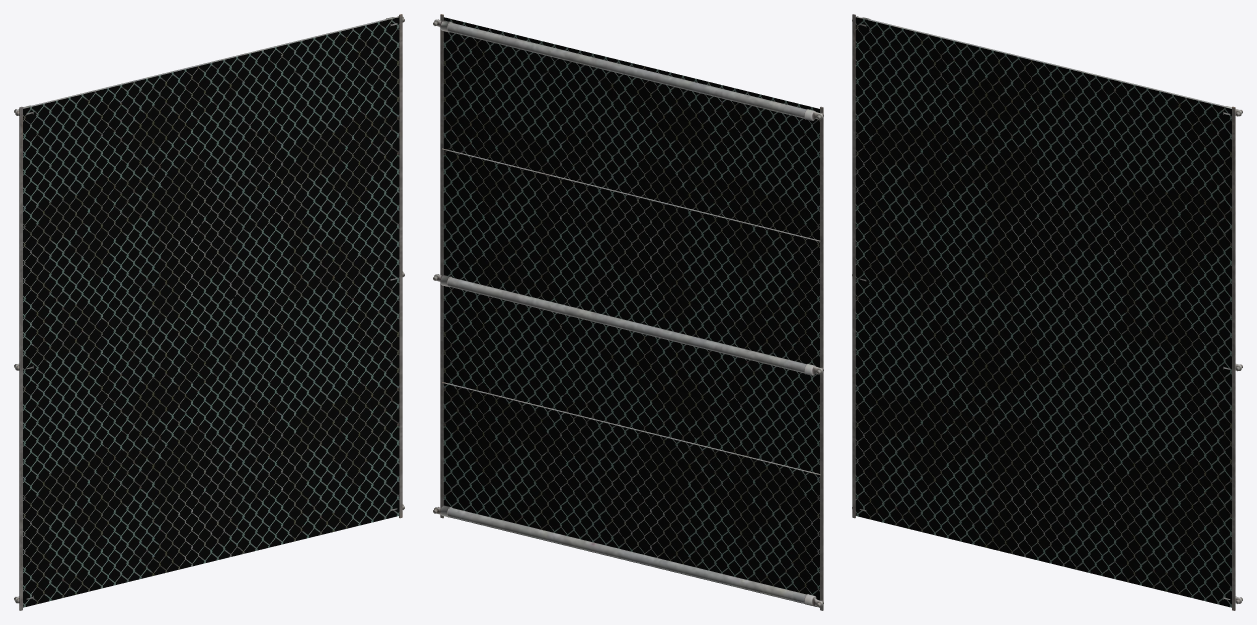
The model's file is fence.glb.
3 views of the same model, side by side, from view 1: azimuth 30°, elevation 25°; view 2: azimuth 150°, elevation 25°; view 3: azimuth 330°, elevation 25° (orthographic).
Visible parts, largest first — view 1: modular_chainlink_fence_double; view 2: modular_chainlink_fence_double; view 3: modular_chainlink_fence_double.
Part boxes in pixels (x1=…): modular_chainlink_fence_double: x1=14, y1=14, x2=404, y2=610; modular_chainlink_fence_double: x1=433, y1=14, x2=823, y2=610; modular_chainlink_fence_double: x1=852, y1=14, x2=1242, y2=610.
Bounding box in the file's own units: 1.91 × 2.37 × 0.0481.
Materials: 2 (2 with a texture image).
